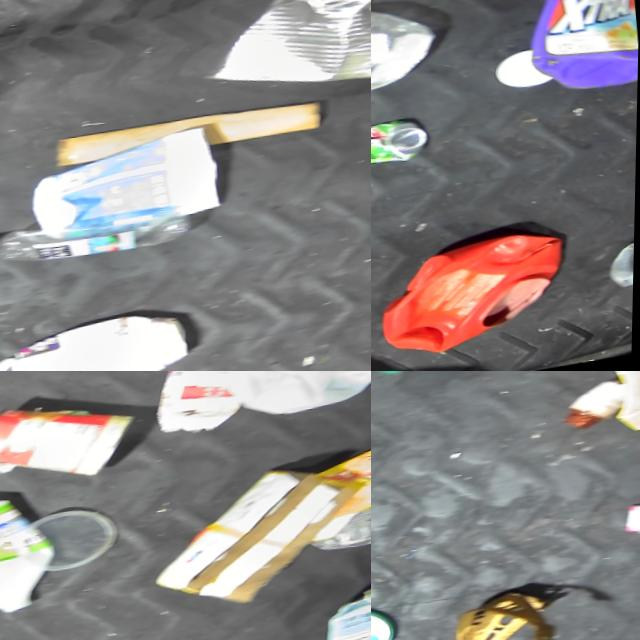can: (200, 0, 371, 108), (0, 391, 140, 496), (371, 118, 435, 178), (612, 488, 640, 551)
milk_jug: (0, 490, 60, 637), (224, 371, 371, 431)
non_white_jug: (377, 234, 576, 365), (517, 0, 640, 102)
plastic_bottle: (371, 15, 428, 143)
